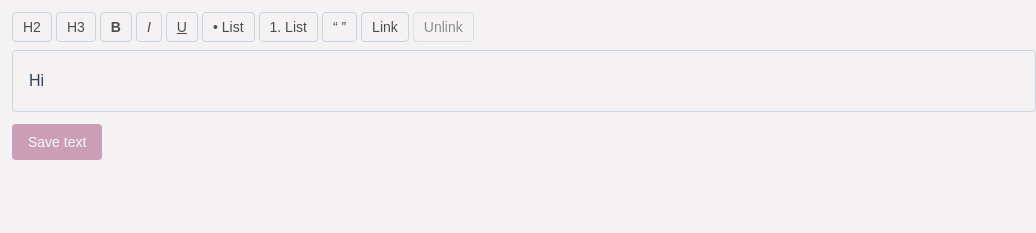
Test: LessonTextEditor › tells the person when the action throws
What coordinates should you click on to do the following:
click the button named "Heading"
I would click on:
 (32, 27)
Its box is [12,12,52,42].
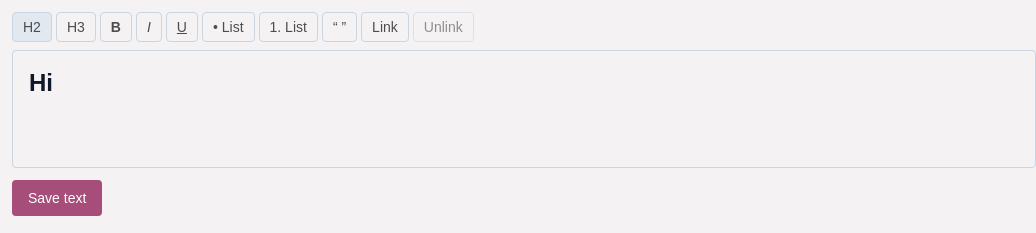
What coordinates should you click on to do the following:
click the button "Save text"
I would click on:
 (57, 198)
Its box is [12,180,102,216].
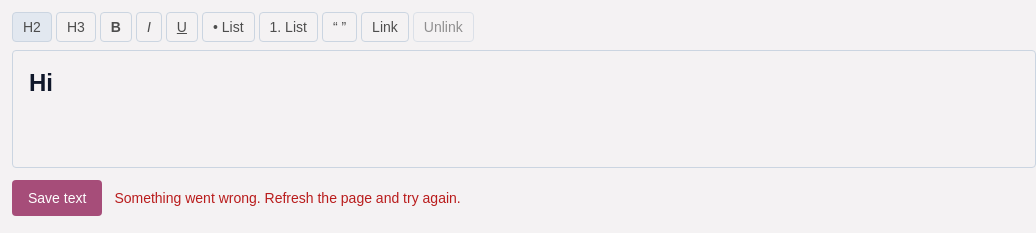
expect the message shows "Something went wrong": met, box [114,190,461,206]
